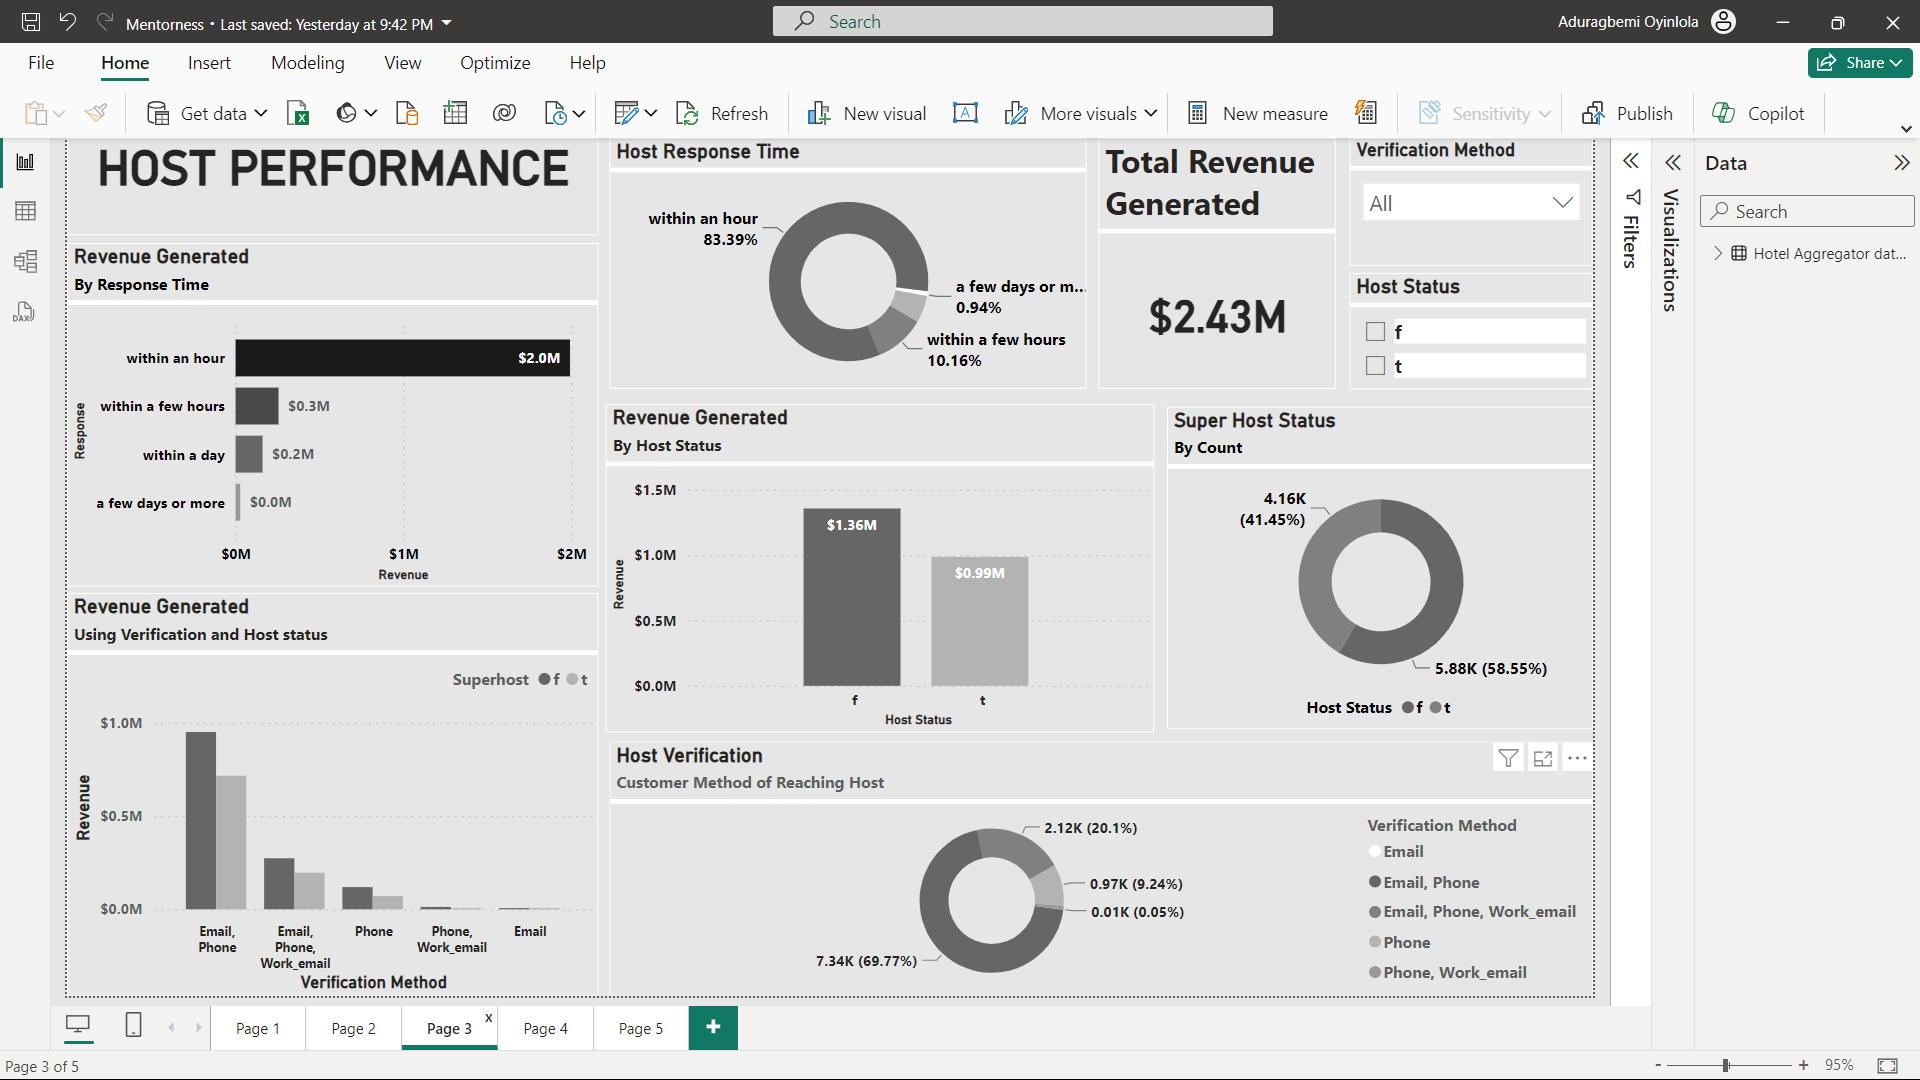

What the dashboard file says about the page in this screenshot:
{"tool":"powerbi","page":{"name":"Page 3","canvas":[1280,720],"ordinal":2},"visuals":[{"type":"donutChart","title":"Super Host Status","fields":{"Y":["CountNonNull(Hotel Aggregator dataset.host_is_superhost)"],"Series":["Hotel Aggregator dataset.host_is_superhost"]},"box":[922.2,225.7,357.8,270.2],"z":0},{"type":"donutChart","title":"Host Response Time","fields":{"Y":["CountNonNull(Hotel Aggregator dataset.host_response_time)"],"Series":["Hotel Aggregator dataset.host_response_time"]},"box":[455.1,0,399.8,210.1],"z":1000},{"type":"clusteredColumnChart","title":"Revenue Generated","fields":{"Category":["Hotel Aggregator dataset.host_is_superhost"],"Y":["Sum(Hotel Aggregator dataset.price)"]},"box":[451.5,223.3,459.9,275],"z":2000},{"type":"actionButton","box":[0,0,100,40],"z":3000},{"type":"donutChart","title":"Host Verification","fields":{"Y":["CountNonNull(Hotel Aggregator dataset.ModifiedColumn)"],"Series":["Hotel Aggregator dataset.ModifiedColumn"]},"box":[455.1,506.7,824.9,213.7],"z":4000},{"type":"clusteredColumnChart","title":"Revenue Generated","fields":{"Category":["Hotel Aggregator dataset.ModifiedColumn"],"Y":["Sum(Hotel Aggregator dataset.price)"],"Series":["Hotel Aggregator dataset.host_is_superhost"]},"box":[0,381.8,445.5,338.6],"z":5000},{"type":"barChart","title":"Revenue Generated","fields":{"Category":["Hotel Aggregator dataset.host_response_time"],"Y":["Sum(Hotel Aggregator dataset.price)"]},"box":[0,88,445.5,288.2],"z":6000},{"type":"textbox","title":"HOST PERFORMANCE","box":[0,0,445.5,81.7],"z":7000},{"type":"card","title":"Total Revenue Generated","fields":{"Values":["Sum(Hotel Aggregator dataset.price)"]},"box":[864.5,0,199.3,210.1],"z":8000},{"type":"slicer","title":"Host Status","fields":{"Values":["Hotel Aggregator dataset.host_is_superhost"]},"box":[1075.9,112.9,204.1,97.3],"z":9000},{"type":"slicer","title":"Verification Method ","fields":{"Values":["Hotel Aggregator dataset.ModifiedColumn"]},"box":[1075.9,0,204.1,106.9],"z":10000}]}

Visuals, with their boxes on the page's 1280x720 design canvas (x1, y1, x2, y2). These are canvas units, not pixel positions in the 1920x1080 screenshot, which may show the page scaled, cropped or inside an application window:
"Super Host Status" donutChart: x1=922, y1=226, x2=1280, y2=496
"Host Response Time" donutChart: x1=455, y1=0, x2=855, y2=210
"Revenue Generated" clusteredColumnChart: x1=452, y1=223, x2=911, y2=498
actionButton: x1=0, y1=0, x2=100, y2=40
"Host Verification" donutChart: x1=455, y1=507, x2=1280, y2=720
"Revenue Generated" clusteredColumnChart: x1=0, y1=382, x2=446, y2=720
"Revenue Generated" barChart: x1=0, y1=88, x2=446, y2=376
"HOST PERFORMANCE" textbox: x1=0, y1=0, x2=446, y2=82
"Total Revenue Generated" card: x1=864, y1=0, x2=1064, y2=210
"Host Status" slicer: x1=1076, y1=113, x2=1280, y2=210
"Verification Method " slicer: x1=1076, y1=0, x2=1280, y2=107
